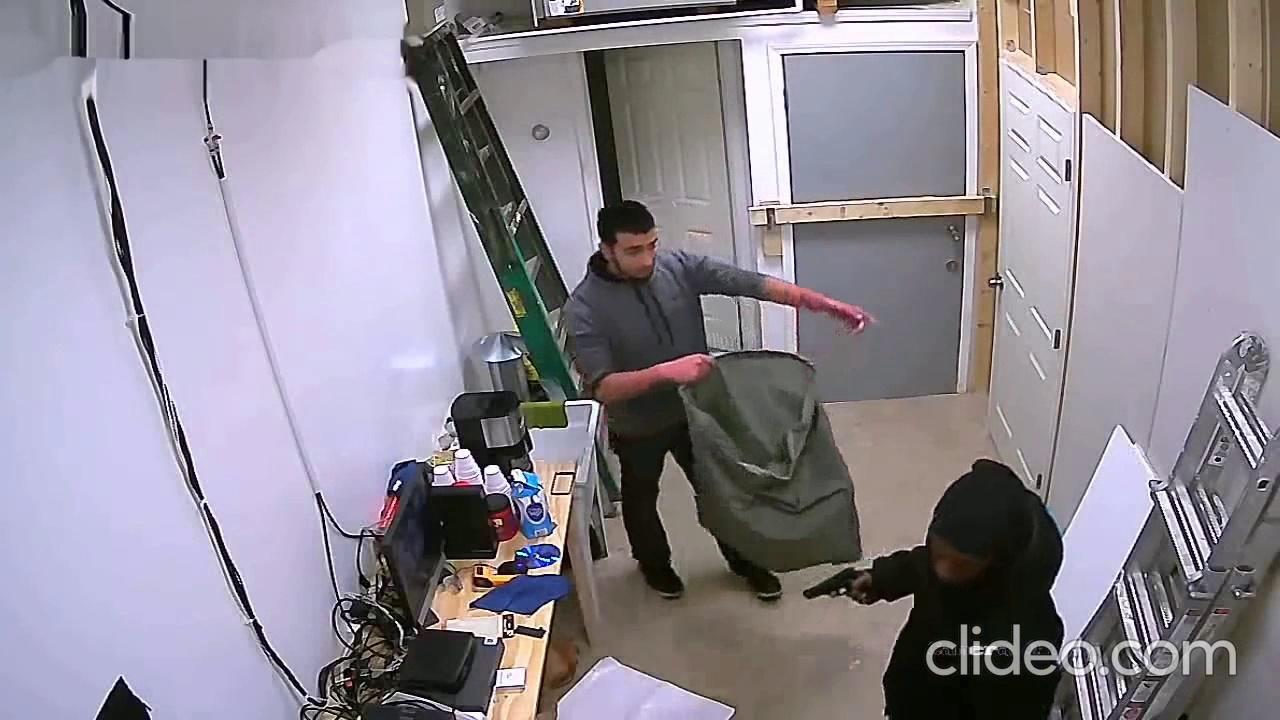person: (560, 198, 878, 604), (848, 458, 1066, 720)
pistol: (803, 565, 879, 604)
